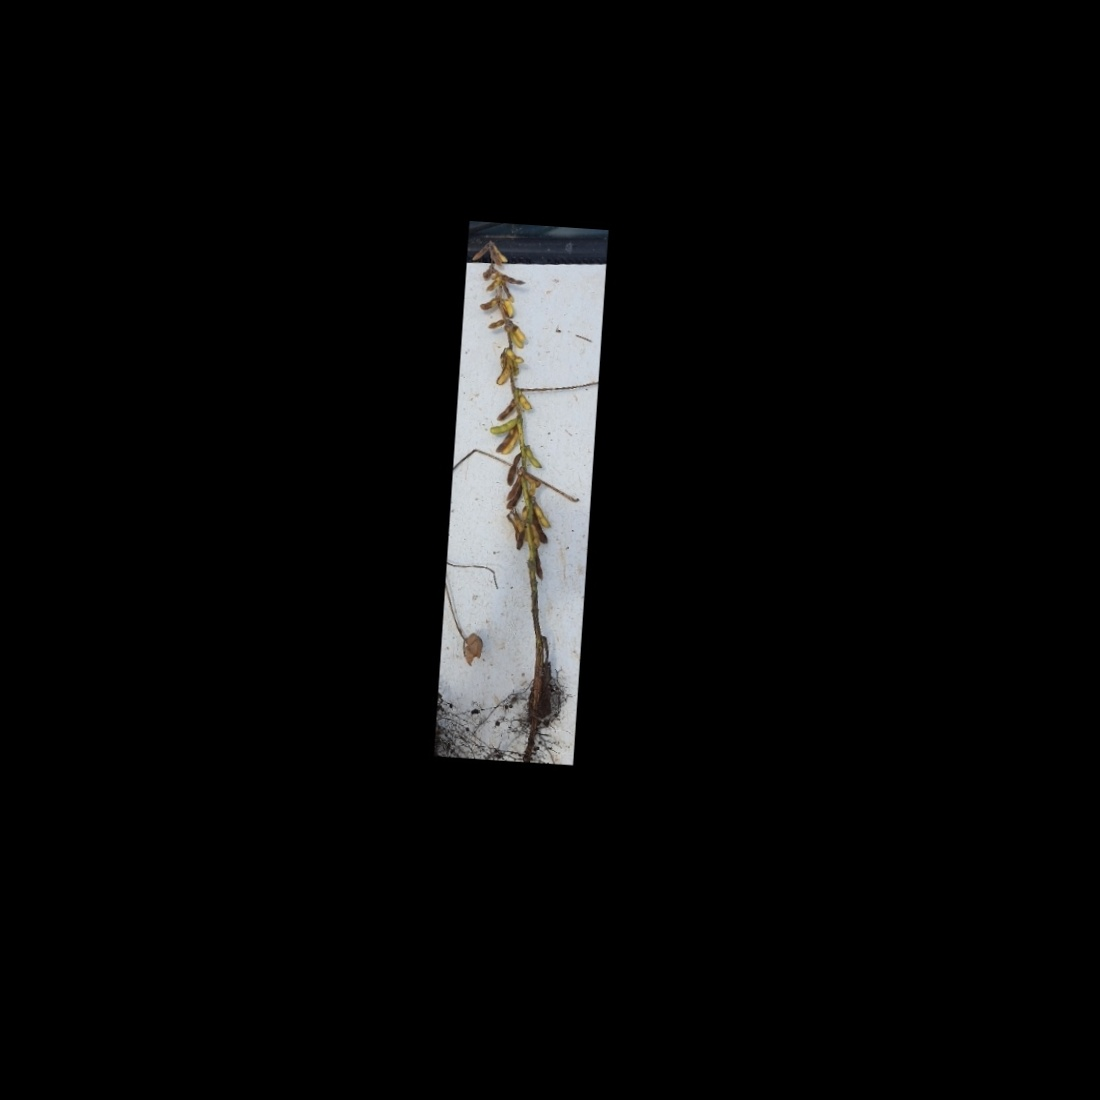pod: (521, 440, 547, 472), (502, 451, 522, 489), (488, 413, 517, 437), (532, 501, 555, 530), (495, 395, 516, 422), (531, 549, 547, 582), (469, 239, 490, 264), (515, 388, 535, 413), (498, 270, 526, 286), (498, 284, 517, 305), (477, 294, 499, 312), (485, 317, 507, 332)
soy: (438, 233, 604, 744)
